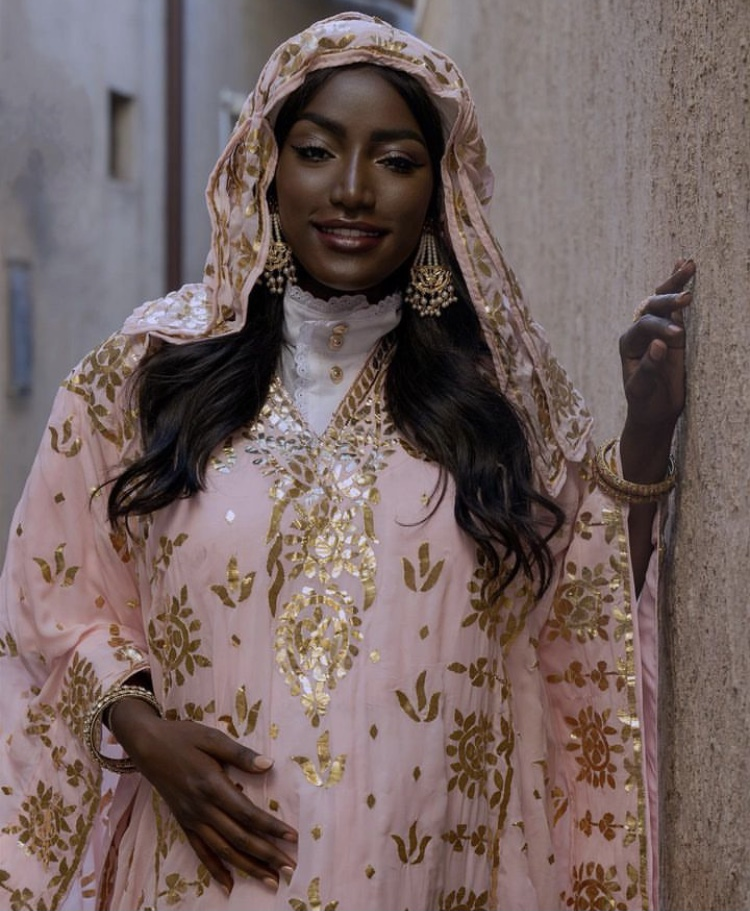Saudi_Founding_Day: (3, 10, 696, 909)
